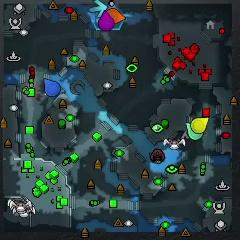p1: (44, 78, 61, 97)
p2: (186, 122, 203, 140)
p3: (98, 9, 113, 31)
p4: (191, 118, 210, 134)
p5: (107, 8, 125, 23)
x3: (90, 0, 107, 18)
